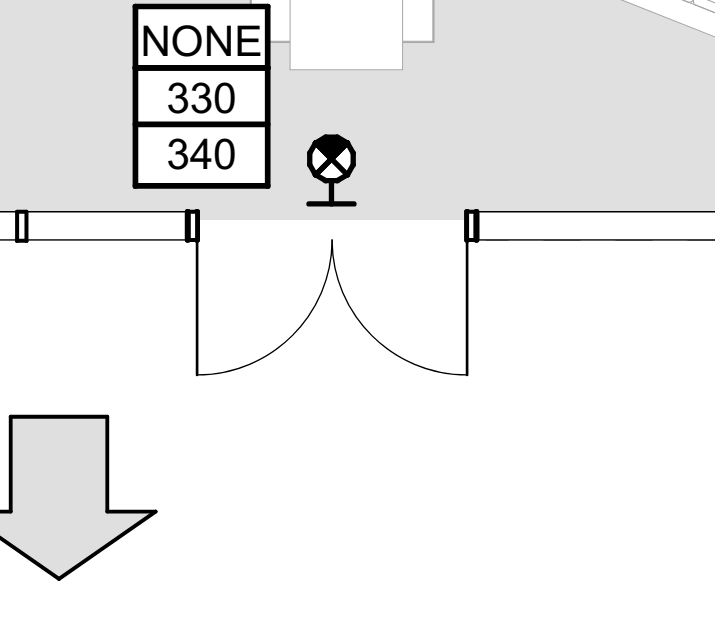double door: (191, 196, 482, 415)
